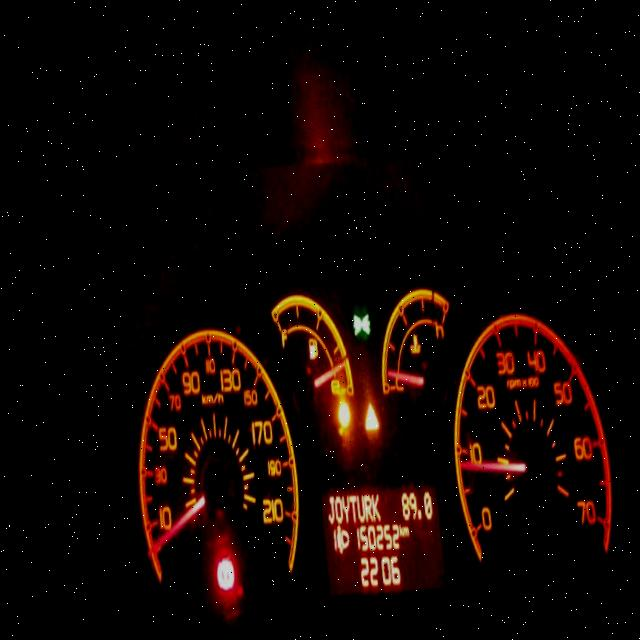odometer: (314, 472, 450, 602)
